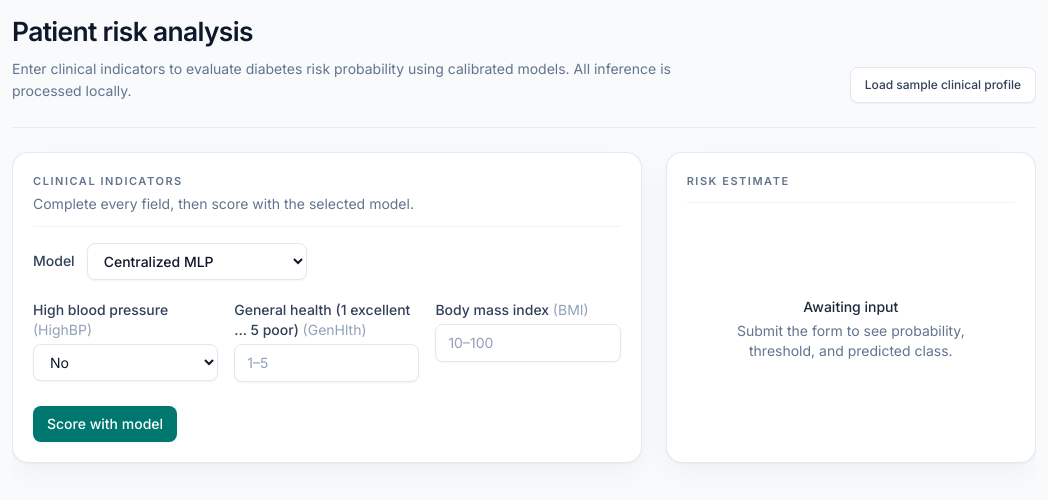
Demo form › submits valid input and displays the prediction with its disclaimer
Select "Yes" in the dropdown labelled "High blood pressure (HighBP)" at (126, 362), box left=33, top=344, right=218, bottom=381
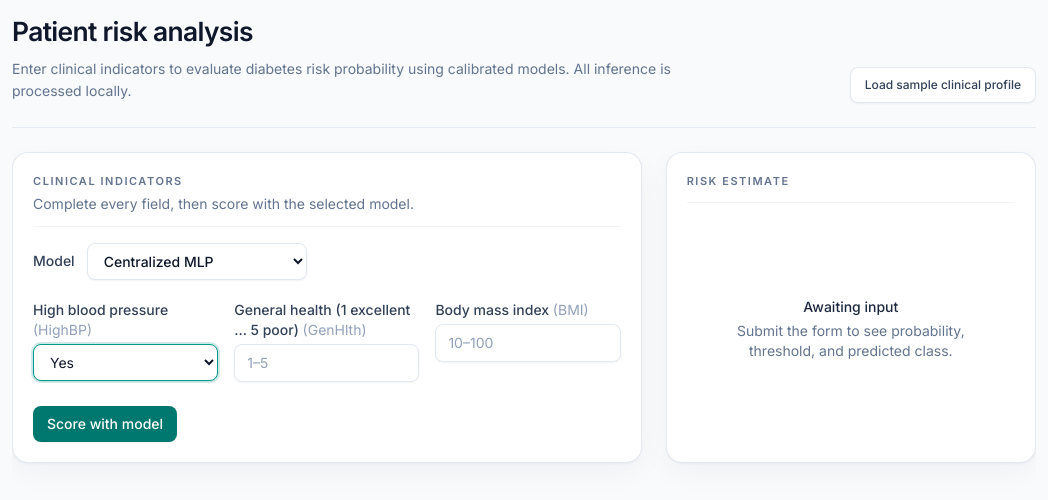
Type "31" into the field labelled "Body mass index (BMI)" at (528, 343), box left=435, top=324, right=621, bottom=362
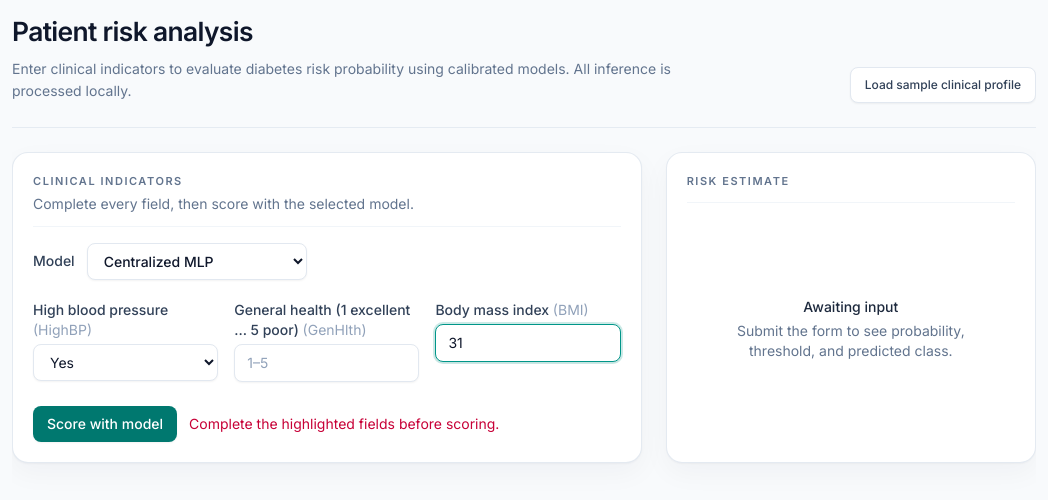
Type "3" into the field labelled "General health (1 excellent … 5 poor) (GenHlth)" at (327, 363), box left=234, top=344, right=419, bottom=382
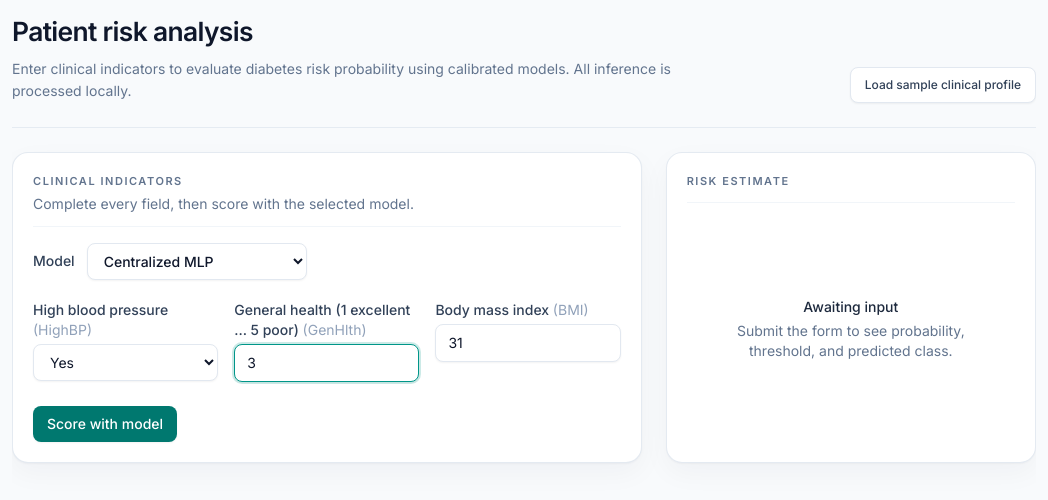
Click the button "Score with model" at (105, 424), box left=33, top=406, right=177, bottom=442
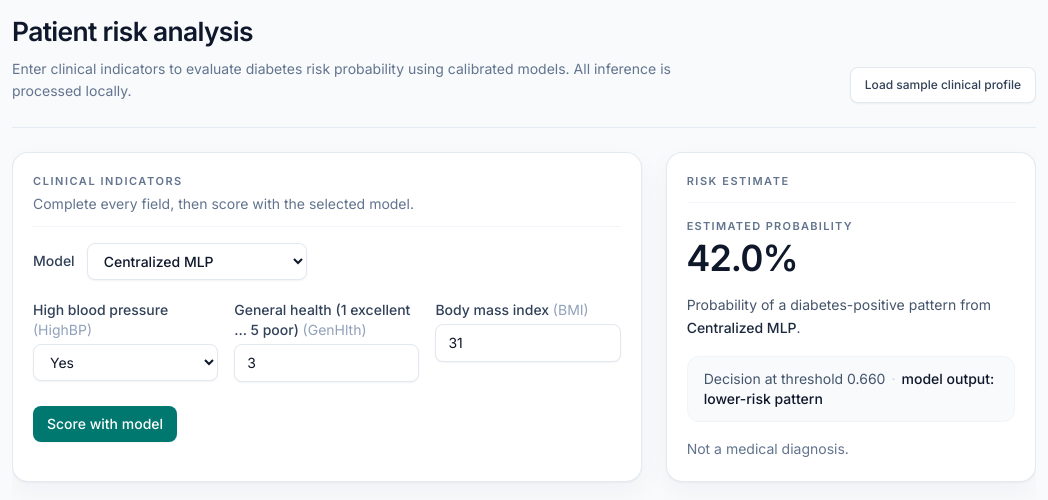
Result: the text "42.0%" is shown at left=687, top=236, right=798, bottom=280
Result: the text "Not a medical diagnosis." is shown at left=687, top=440, right=849, bottom=457
